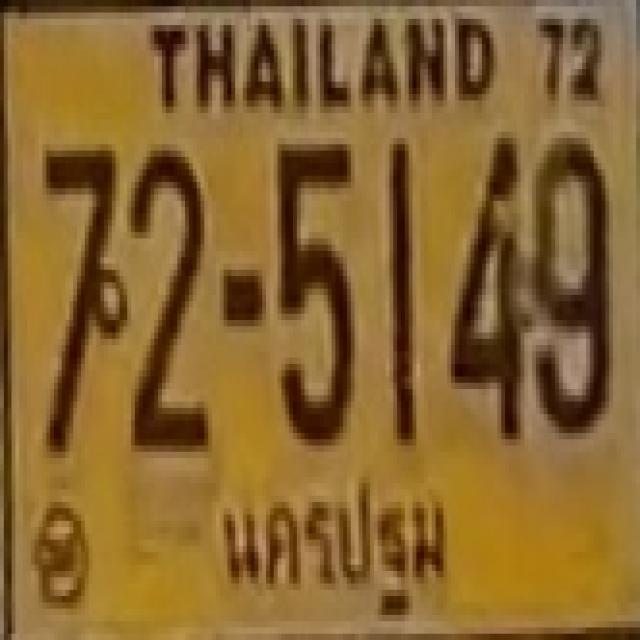1: (386, 142, 412, 442)
2: (125, 144, 202, 446)
4: (447, 132, 521, 433)
5: (274, 138, 351, 439)
7: (42, 144, 116, 446)
9: (530, 132, 607, 426)
NPT: (207, 485, 466, 624)
